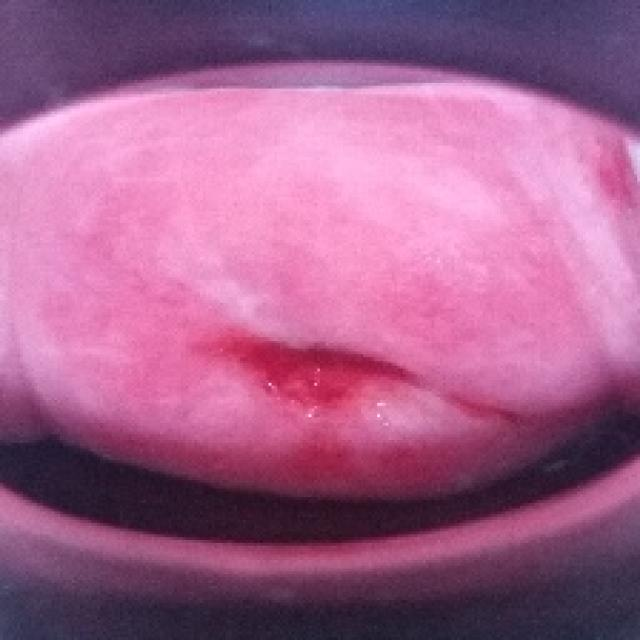type-3: (0, 74, 640, 594)
